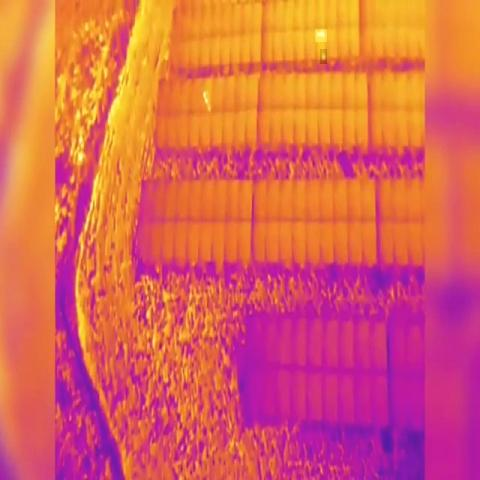fault: (201, 87, 212, 115), (315, 29, 327, 42), (320, 49, 327, 64)
